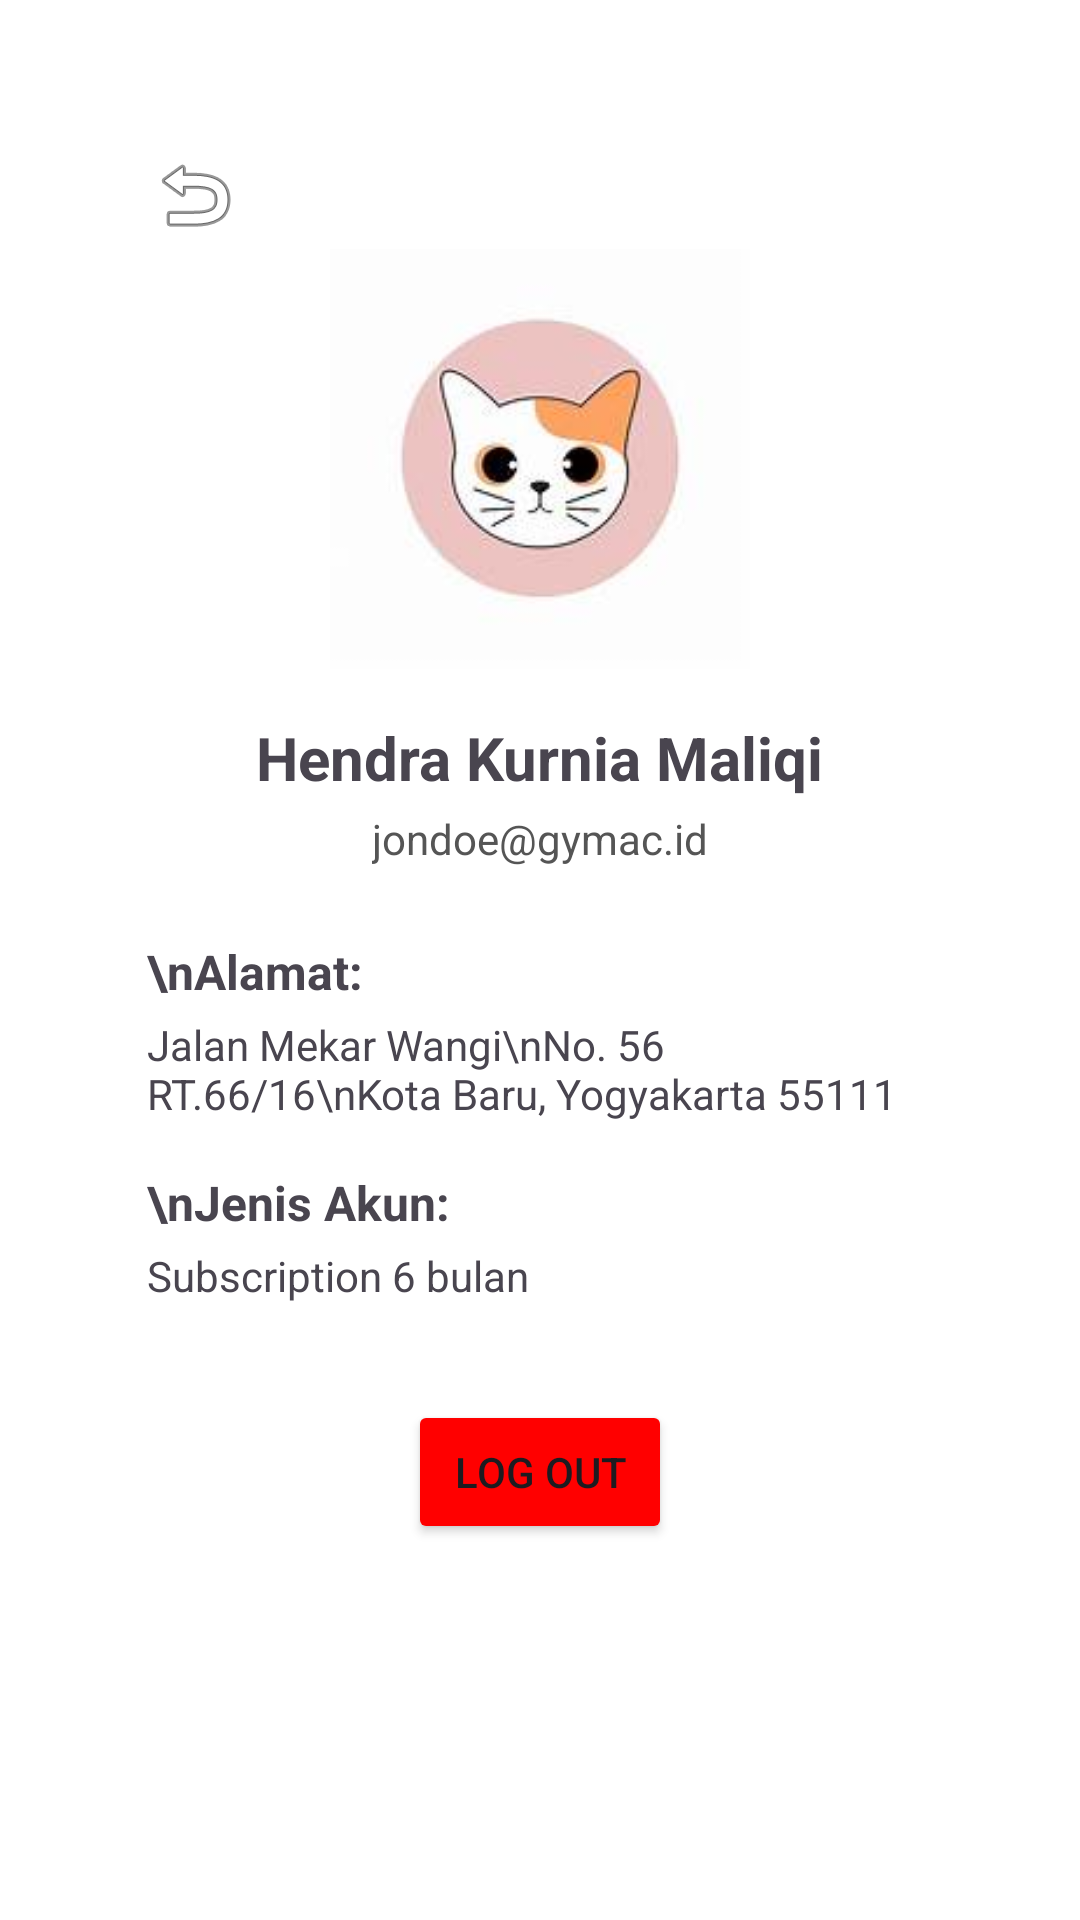

Point at icon controls on the screen. Image size 1080 x 1920, points as (x,y).
Kembali: (196,195)
